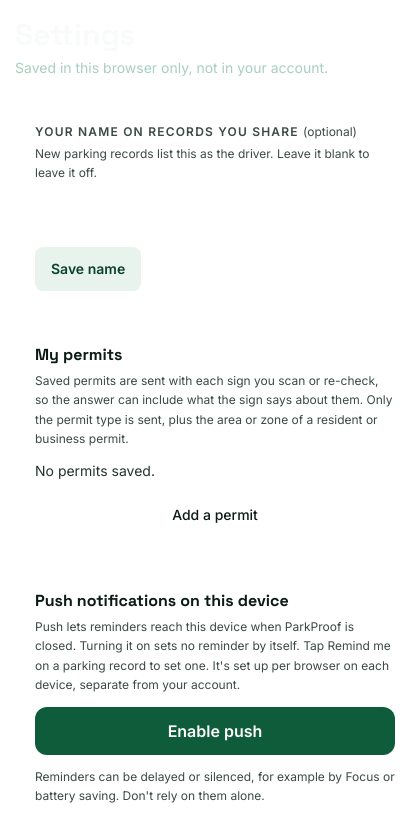
My permits › shows the accessible-permit warning before saving, and saves only on confirm
Click the button "Add a permit".
click(215, 515)  # box [35,493,395,537]
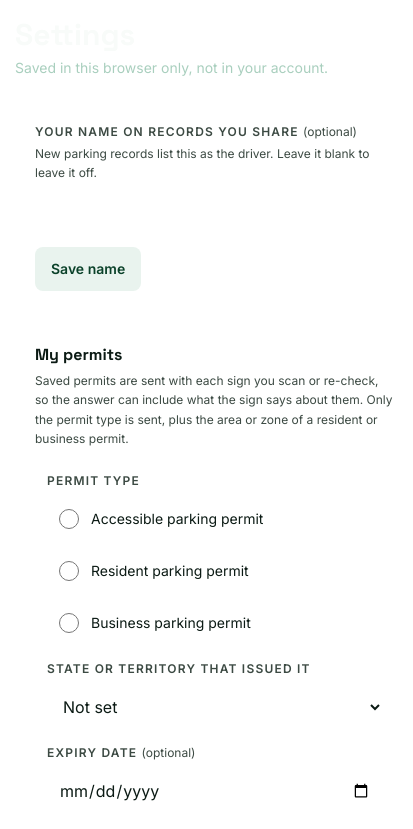
Click the radio button labelled "Accessible parking permit".
click(69, 519)  # box [59,509,79,529]
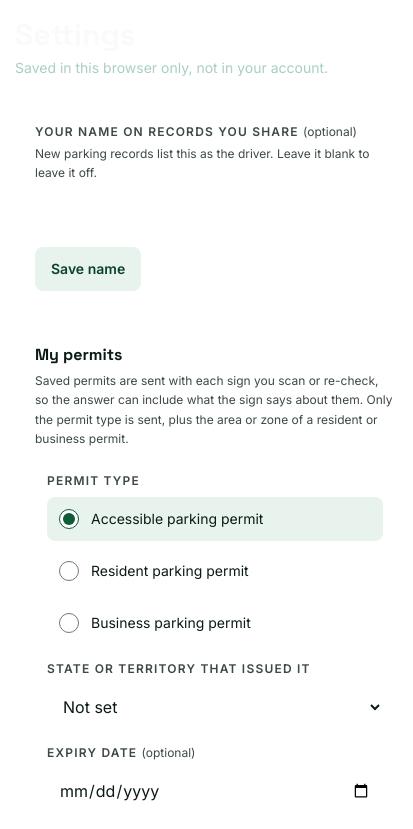
Select "New South Wales" in the dropdown labelled "State or territory that issued it" at point(215, 707), box [47,685,383,729]
(page scrolled)
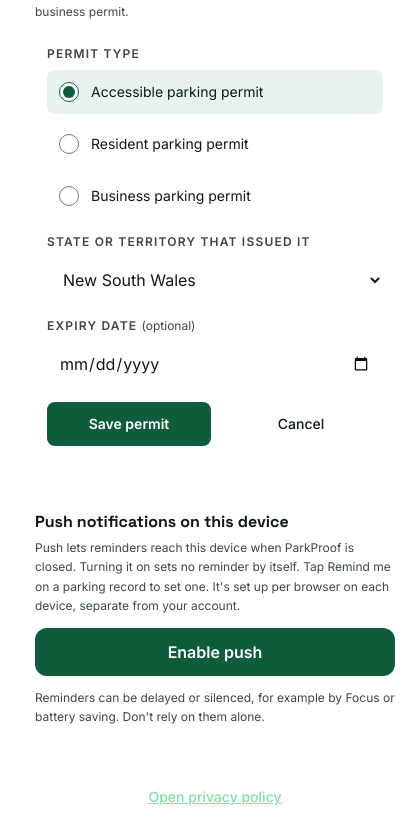
Click the button "Save permit".
click(129, 424)  # box [47,402,211,446]
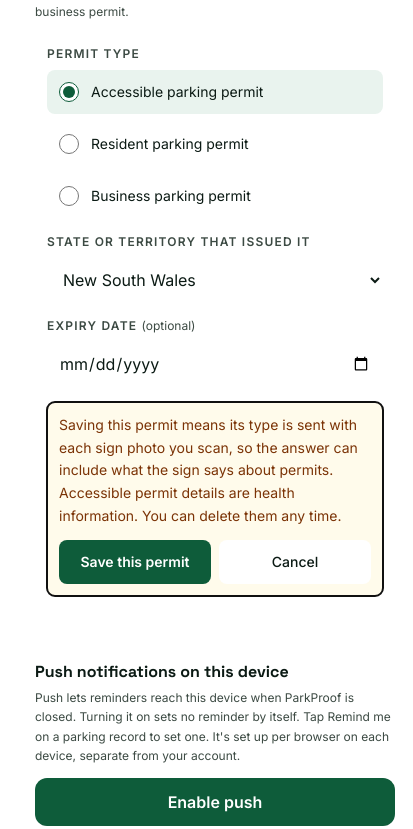
Expected: the message shows "Saving this permit means its type is sent with each sign photo you scan, so the answer can include what the sign says about permits. Accessible permit details a", [59,416,358,524]
Click the button "Save this permit".
click(135, 562)  # box [59,540,211,584]
(page scrolled)
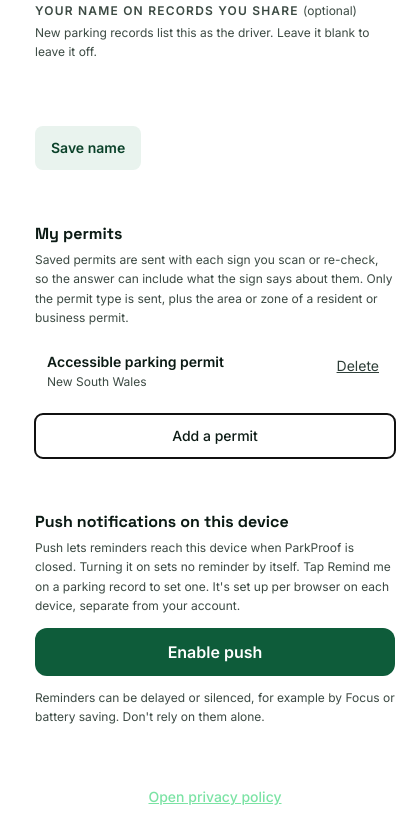
Expected: the text "Saving this permit means its type is sent with each sign photo you scan, so the answer can include what the sign says ab" is gone
